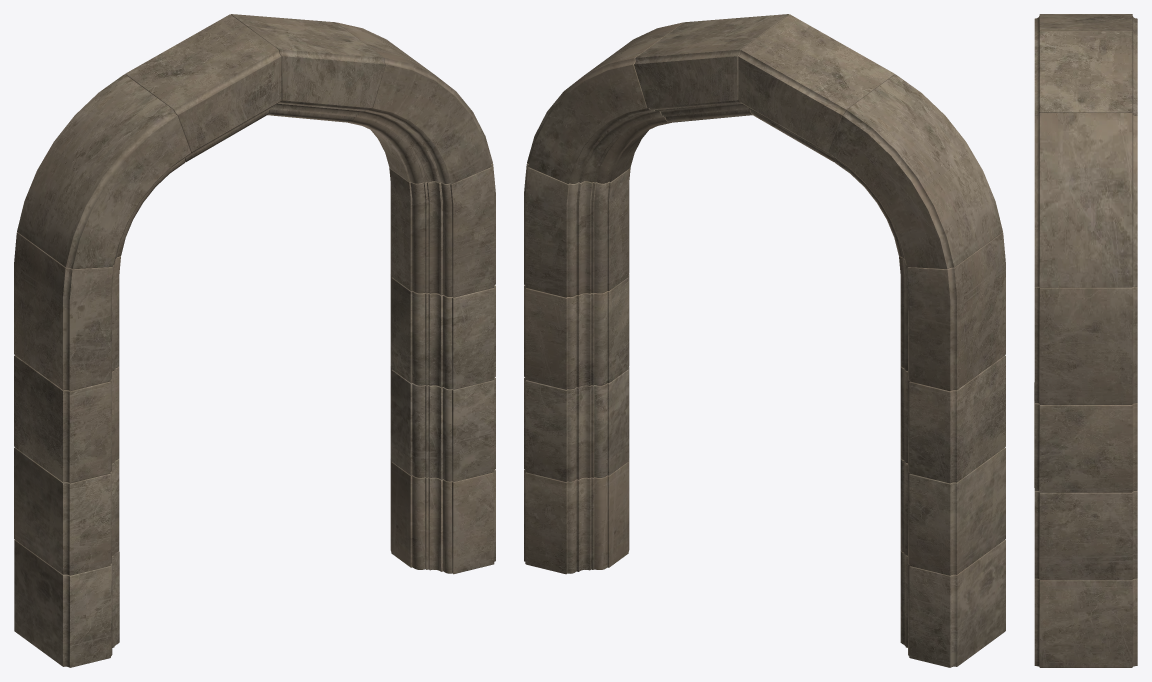
The model's file is Stone_archway.glb.
The picture shows the model from 3 angles, left to right: view 1: azimuth 30°, elevation 25°; view 2: azimuth 150°, elevation 25°; view 3: azimuth 270°, elevation 25°; orthographic projection. The views are drawn at different scales.
Visible parts, largest first — view 1: stone_doorway; view 2: stone_doorway; view 3: stone_doorway.
Boxes of the visible parts, x1,y1,x2,y2 form: stone_doorway: (14,14,495,667); stone_doorway: (524,14,1005,667); stone_doorway: (1034,14,1137,667).
Size of the model in its own units: 3.69 by 4.59 by 0.8016.
Materials: 1 (1 with a texture image).
